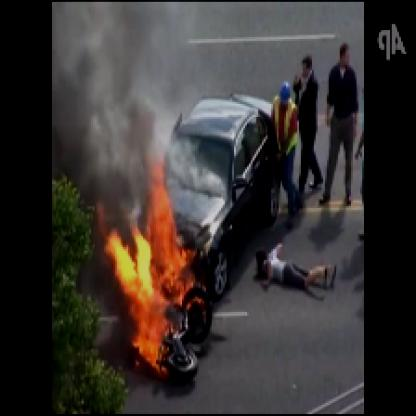Fire: (100, 143, 212, 386)
Smoke: (52, 2, 169, 174)
